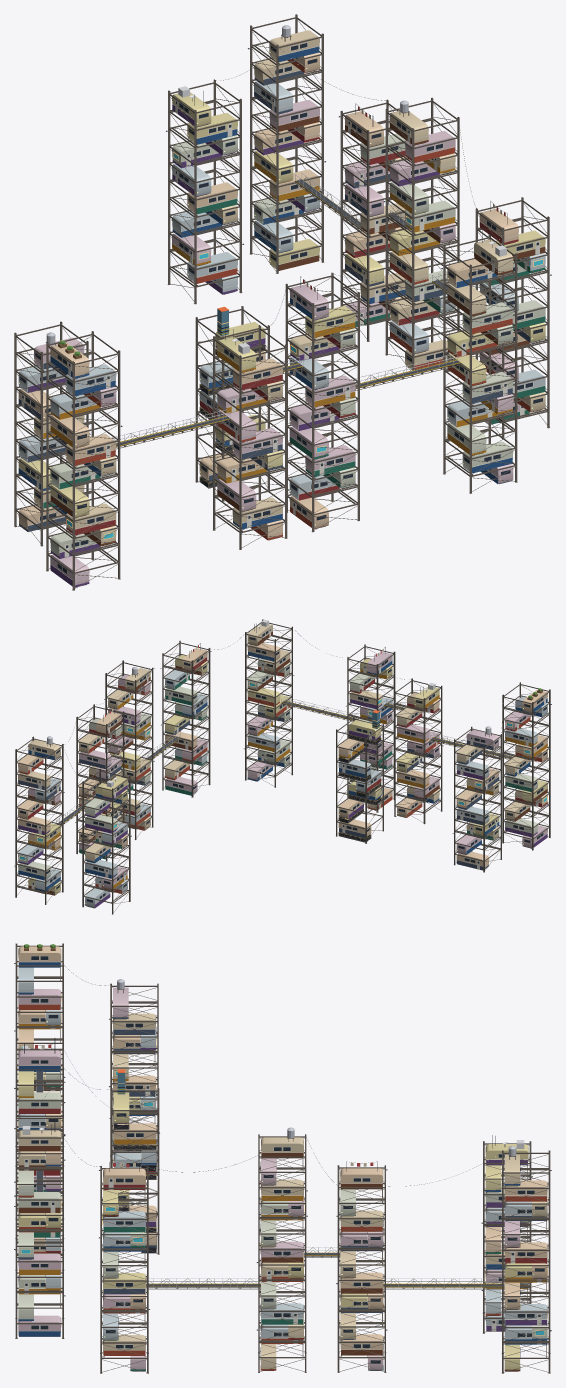
3 views of the same model, one above another, from view 1: azimuth 30°, elevation 25°; view 2: azimuth 150°, elevation 25°; view 3: azimuth 270°, elevation 25° (orthographic). The views are drawn at different scales.
Parts seen in each view (by area): view 1: vertical_towers_b.lod0; view 2: vertical_towers_b.lod0; view 3: vertical_towers_b.lod0.
Boxes of the visible parts, <box> form: vertical_towers_b.lod0: <box>14,14,551,590</box>; vertical_towers_b.lod0: <box>14,619,551,914</box>; vertical_towers_b.lod0: <box>14,943,551,1373</box>.
Size of the model in its own units: 85.73 by 40.01 by 85.18.
